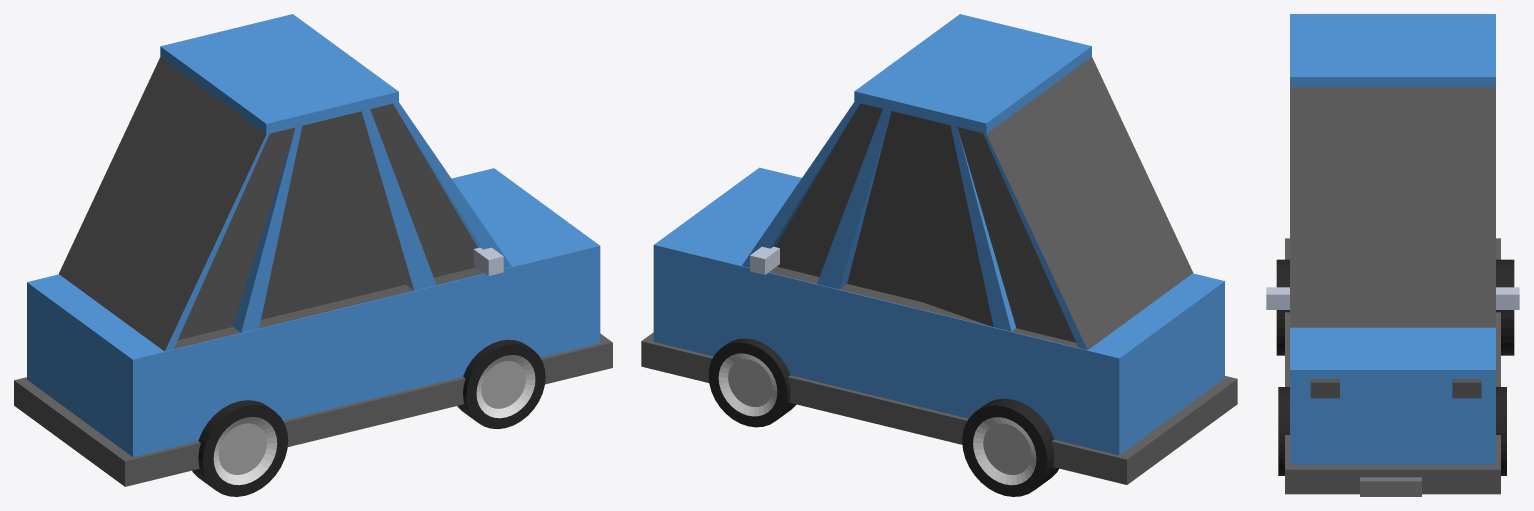
The model's file is car_blue.fbx.
The picture shows the model from 3 angles, left to right: view 1: azimuth 30°, elevation 25°; view 2: azimuth 150°, elevation 25°; view 3: azimuth 270°, elevation 25°; orthographic projection. The views are drawn at different scales.
Parts seen in each view (by area): view 1: Cube.001, Cube, Cube.004, Circle, Circle.001, Cube.006; view 2: Cube.001, Cube, Cube.004, Circle.002, Circle.003, Cube.006; view 3: Cube.001, Cube, Cube.004, Cube.005, Circle.002, Cube.006, Circle.001, Circle, Circle.003, Cube.003, Cube.002.
Part boxes in pixels (box(x1,y1,x2,y2)): Cube.001: box(59, 14, 511, 351); Cube: box(27, 168, 600, 456); Cube.004: box(14, 333, 612, 486); Circle: box(192, 400, 288, 496); Circle.001: box(457, 339, 545, 429); Cube.006: box(473, 247, 503, 275); Cube.001: box(742, 14, 1193, 350); Cube: box(653, 167, 1224, 455); Cube.004: box(641, 332, 1237, 484); Circle.002: box(962, 398, 1058, 496); Circle.003: box(708, 338, 796, 427); Cube.006: box(750, 246, 779, 274); Cube.001: box(1290, 14, 1495, 327); Cube: box(1290, 327, 1495, 464); Cube.004: box(1285, 238, 1500, 494); Cube.005: box(1360, 477, 1421, 496); Circle.002: box(1496, 259, 1514, 355); Cube.006: box(1266, 287, 1519, 309); Circle.001: box(1278, 387, 1289, 475); Circle: box(1276, 259, 1289, 355); Circle.003: box(1496, 387, 1506, 475); Cube.003: box(1452, 379, 1481, 398); Cube.002: box(1310, 379, 1339, 398).
Size of the model in its own units: 540 by 375 by 246.
